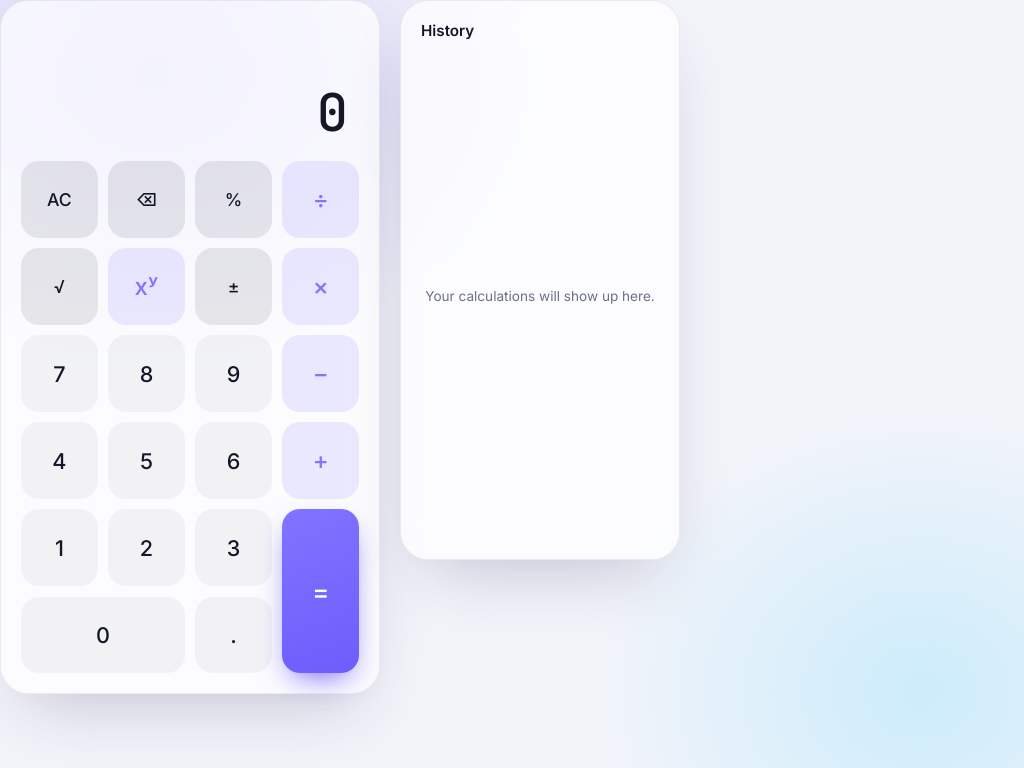
Test: Calculator › swaps the operator when two are pressed in a row
Step 1. Click the button "9" → (234, 374), box [195, 335, 272, 412]
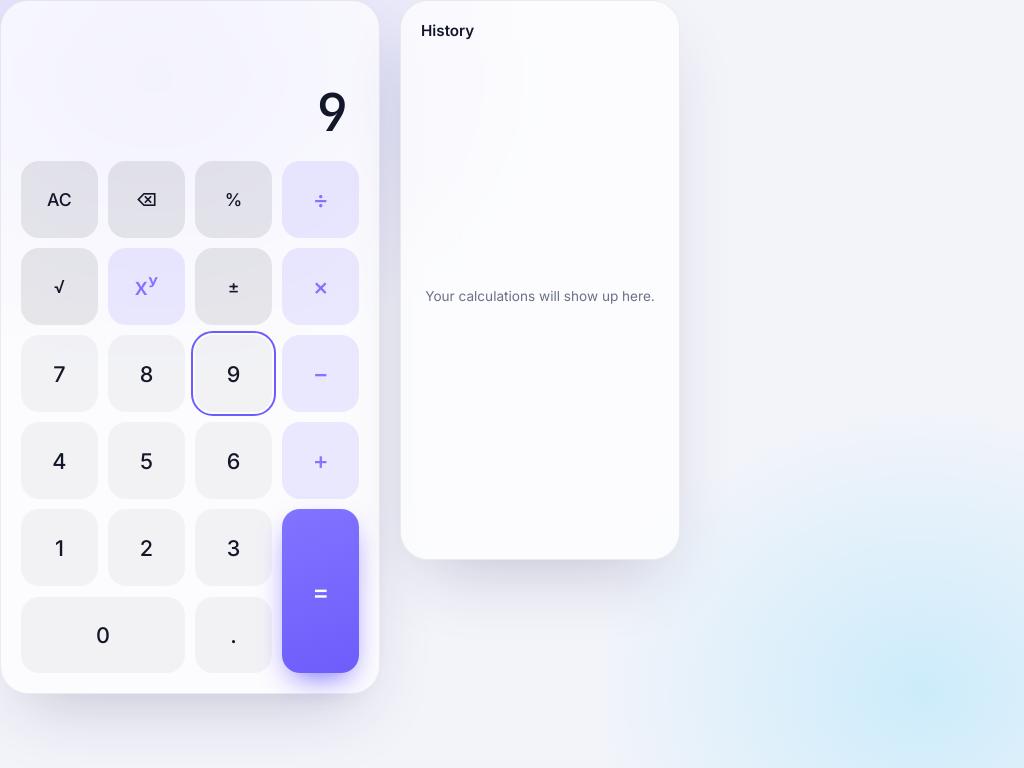
Step 2. Click the button named "add" → (321, 461), box [282, 422, 359, 499]
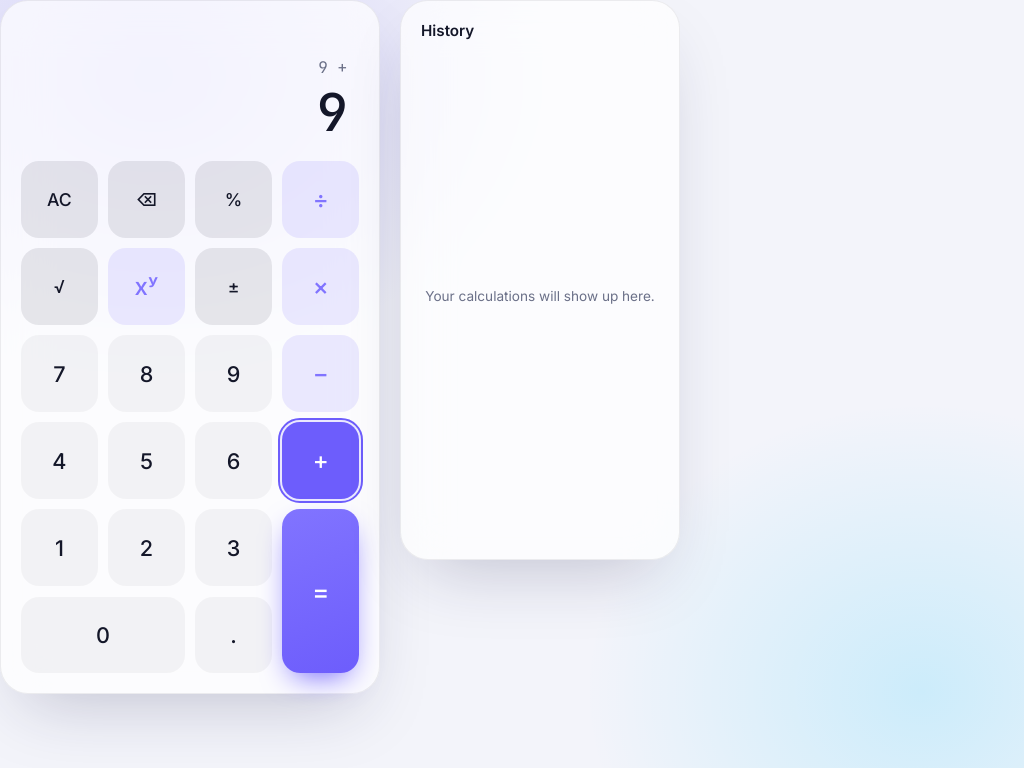
Step 3. Click the button named "subtract" → (321, 374), box [282, 335, 359, 412]
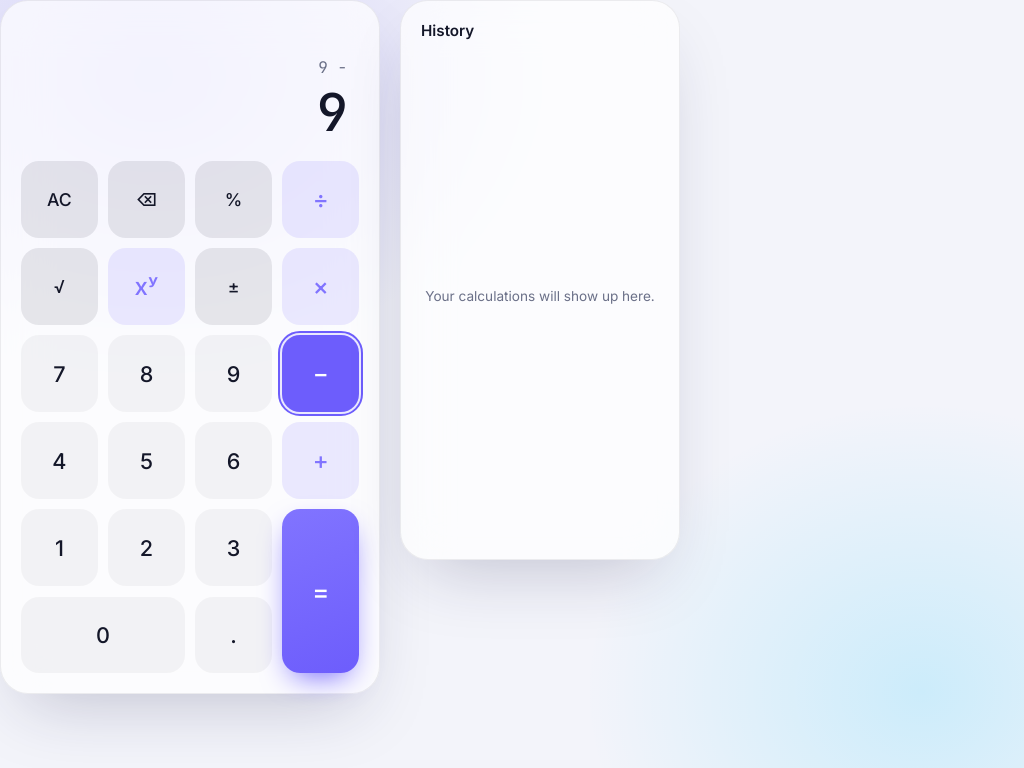
Step 4. Click the button "4" → (59, 461), box [21, 422, 98, 499]
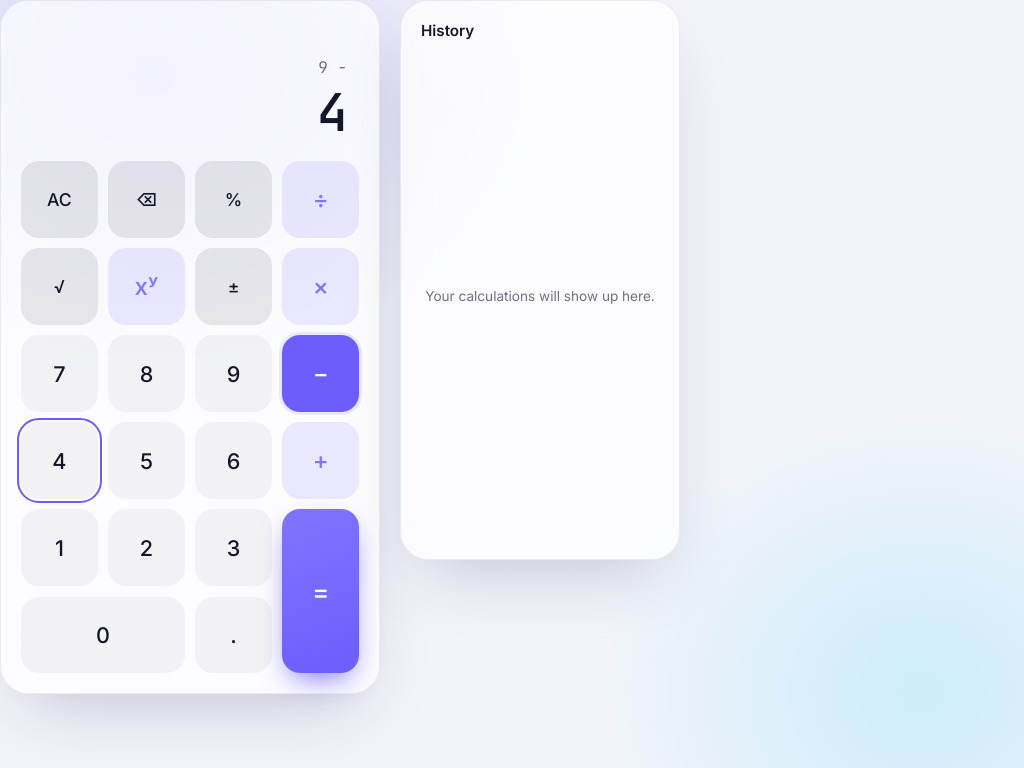
Step 5. Click the button named "equals" → (321, 591), box [282, 509, 359, 673]
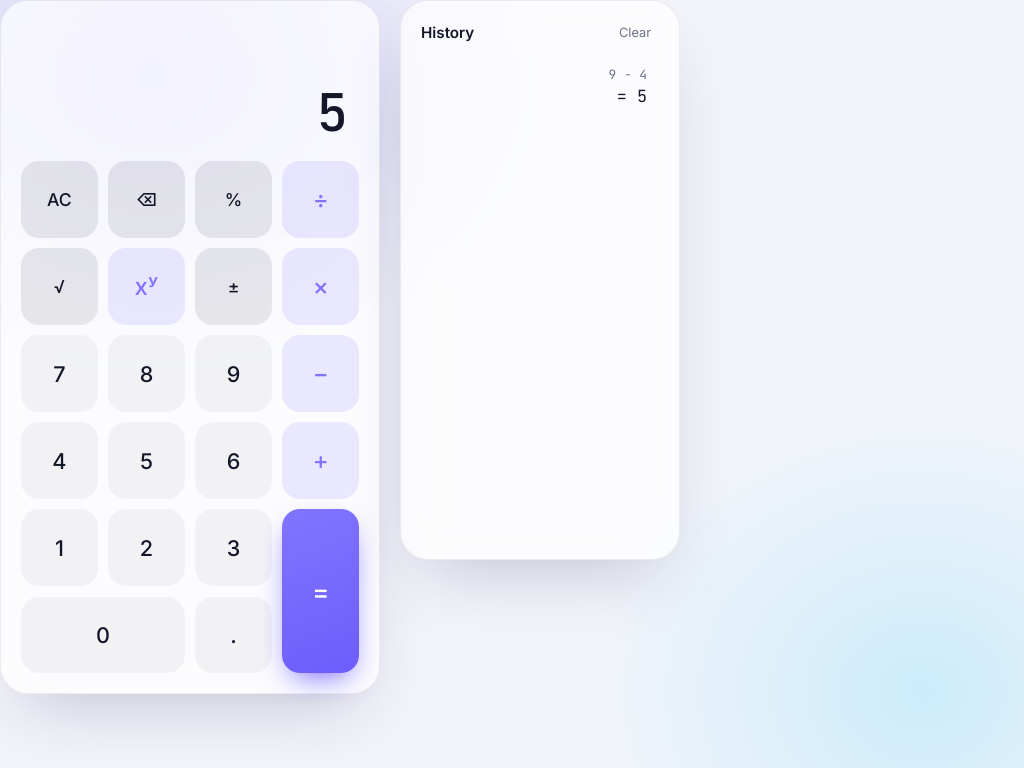
Check: the text with test id "display" reads "5", box [317, 78, 347, 147]
